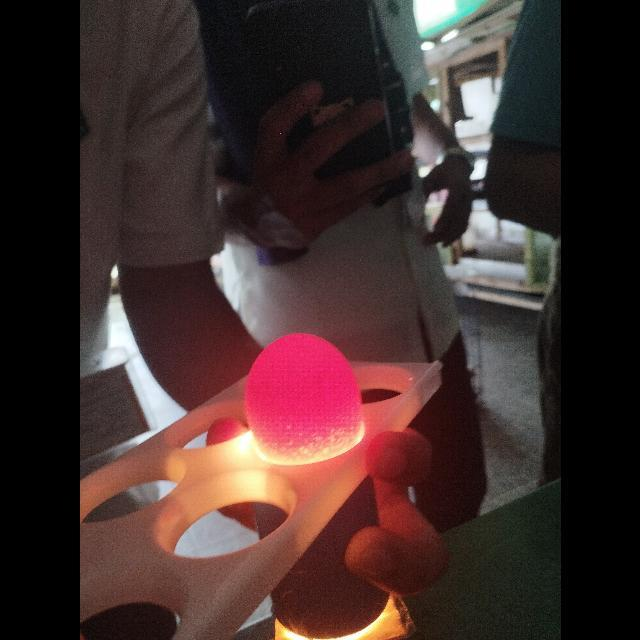Infertile: (248, 334, 362, 464)
